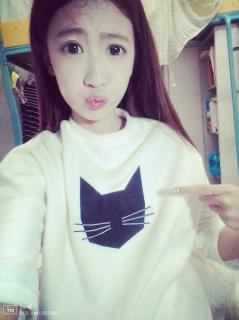long sleeve dress: (0, 107, 239, 319)
